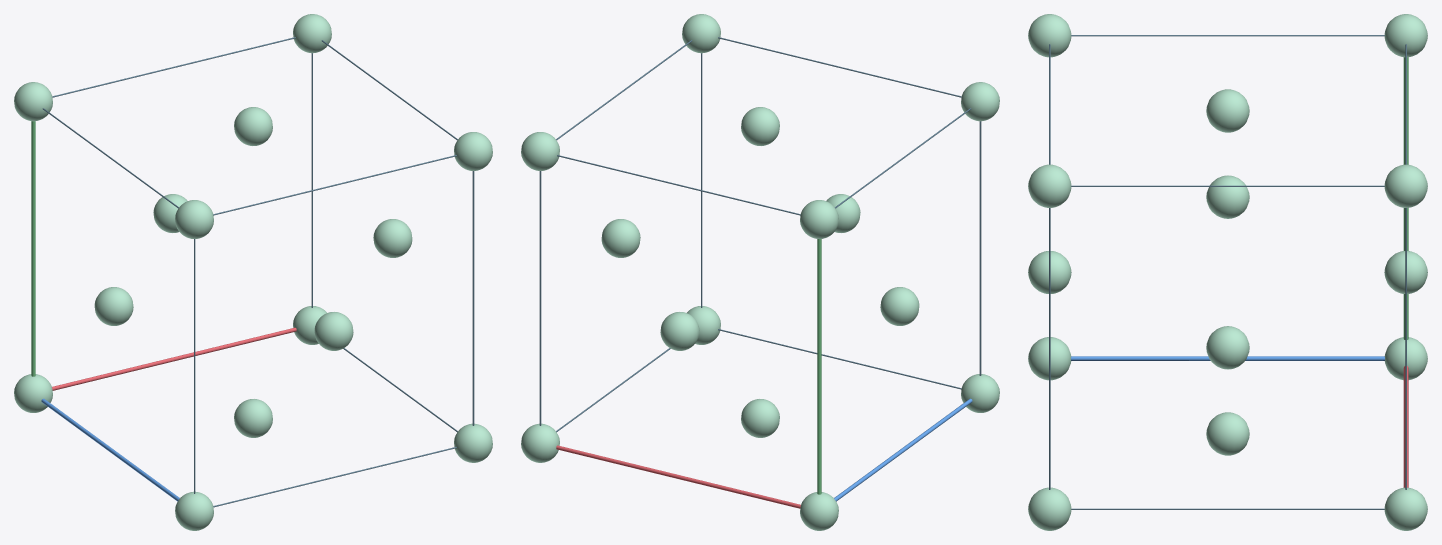
Rendered from chat-solid-argon.glb.
3 renders of one model, left to right at view 1: azimuth 30°, elevation 25°; view 2: azimuth 150°, elevation 25°; view 3: azimuth 270°, elevation 25°, orthographic. The views are drawn at different scales.
Parts seen in each view (by area): view 1: Ar · Ar · 1 (×14), Ô mạng và các trục a, b, c; view 2: Ar · Ar · 1 (×14), Ô mạng và các trục a, b, c; view 3: Ar · Ar · 1 (×14), Ô mạng và các trục a, b, c.
Boxes of the visible parts, x1,y1,x2,y2 form: Ar · Ar · 1 (×14): [14, 14, 492, 530]; Ô mạng và các trục a, b, c: [31, 37, 474, 507]; Ar · Ar · 1 (×14): [521, 14, 999, 530]; Ô mạng và các trục a, b, c: [539, 37, 981, 508]; Ar · Ar · 1 (×14): [1028, 14, 1427, 530]; Ô mạng và các trục a, b, c: [1049, 35, 1408, 509].
Bounding box in the file's own units: 5.89 × 5.89 × 5.89.
